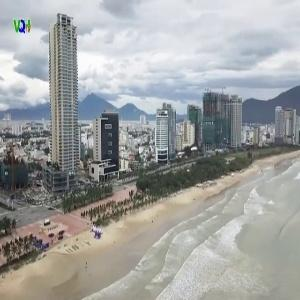drone: (138, 105, 234, 201)
